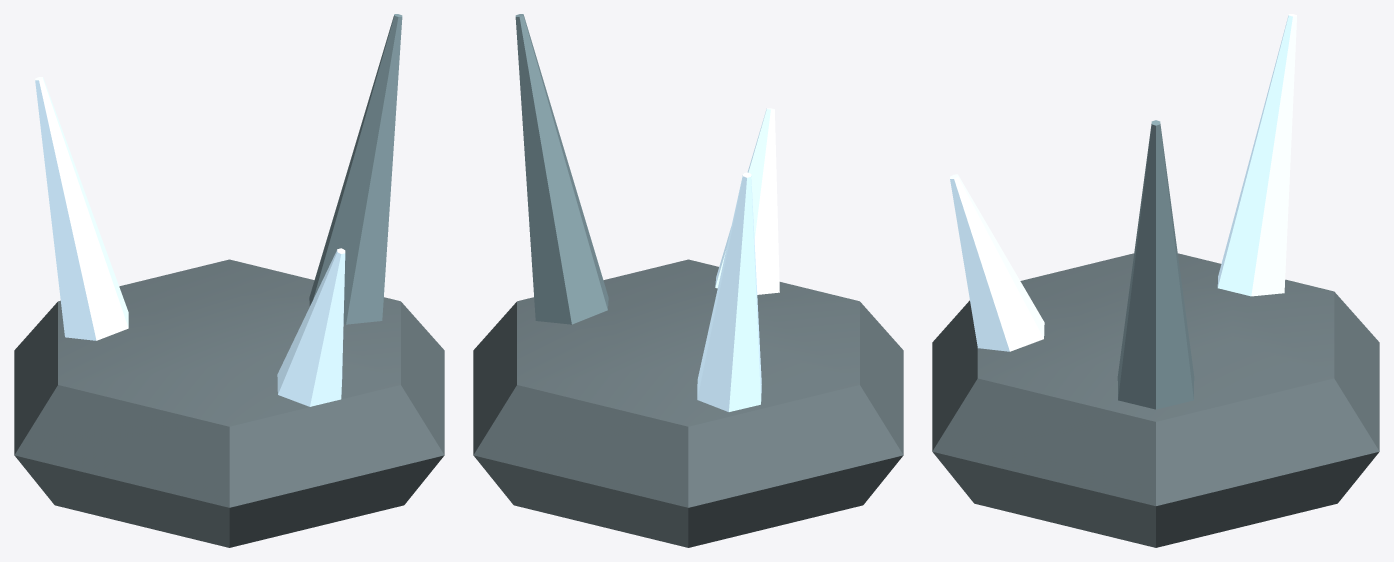
The model's file is prop_prism_vein_b_v4_ShadowProxy.glb.
3 renders of one model, left to right at view 1: azimuth 30°, elevation 25°; view 2: azimuth 150°, elevation 25°; view 3: azimuth 270°, elevation 25°, orthographic. The views are drawn at different scales.
Parts seen in each view (by area): view 1: prop_prism_vein_b_v4_ShadowProxy / Natural silhouette; view 2: prop_prism_vein_b_v4_ShadowProxy / Natural silhouette; view 3: prop_prism_vein_b_v4_ShadowProxy / Natural silhouette.
Part boxes in pixels (x1,y1,x2,y2): prop_prism_vein_b_v4_ShadowProxy / Natural silhouette: (14,14,444,547); prop_prism_vein_b_v4_ShadowProxy / Natural silhouette: (473,14,903,547); prop_prism_vein_b_v4_ShadowProxy / Natural silhouette: (932,14,1379,547).
Bounding box in the file's own units: 1.28 × 1.16 × 1.11.
